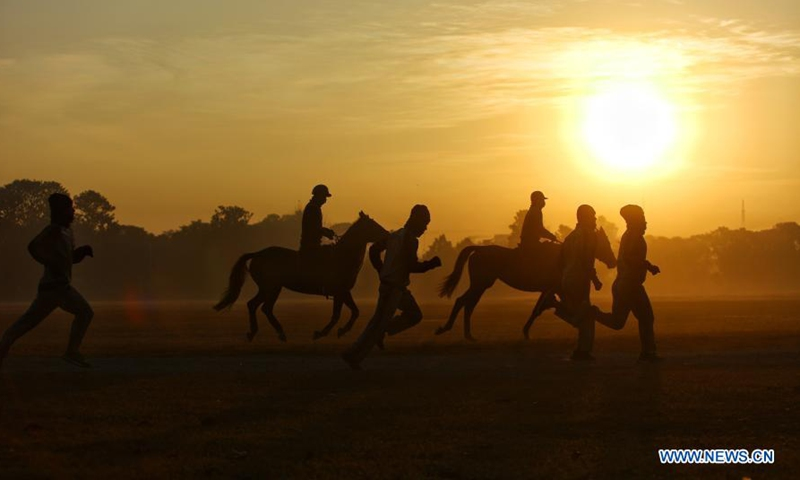human: (1, 184, 113, 374), (577, 194, 690, 378), (368, 202, 448, 358), (534, 202, 604, 366), (297, 181, 343, 283), (521, 186, 559, 263)
